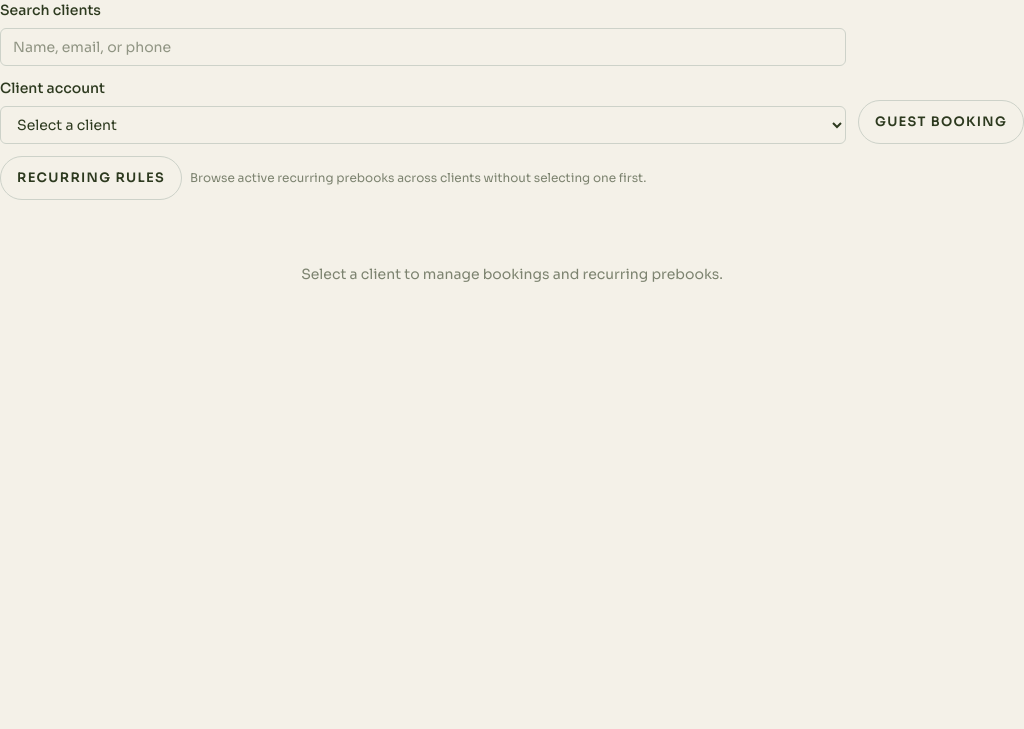
Test: ClientBookingManagerPanel › renders recurring rules for the selected client
Step 1. Select "Alex Client (alex@example.com)" in the dropdown labelled "Client account" → coordinates (423, 125), box 0,106 -> 846,144
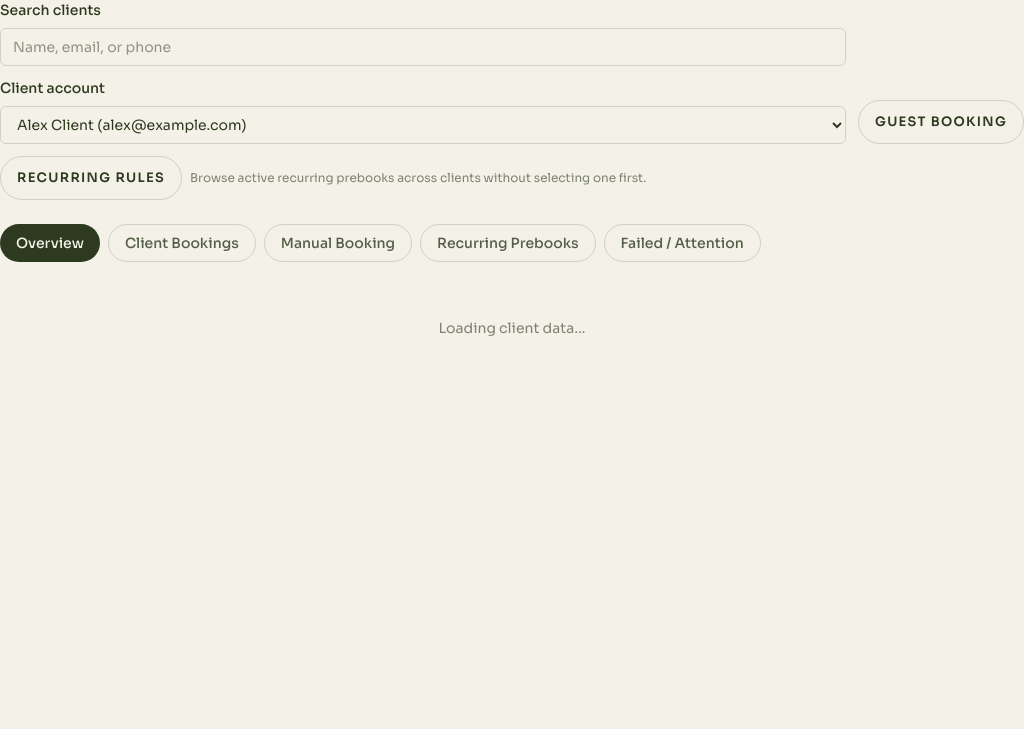
Step 2. Click the button "Recurring Prebooks" → coordinates (508, 243), box 420,224 -> 596,262
(page scrolled)
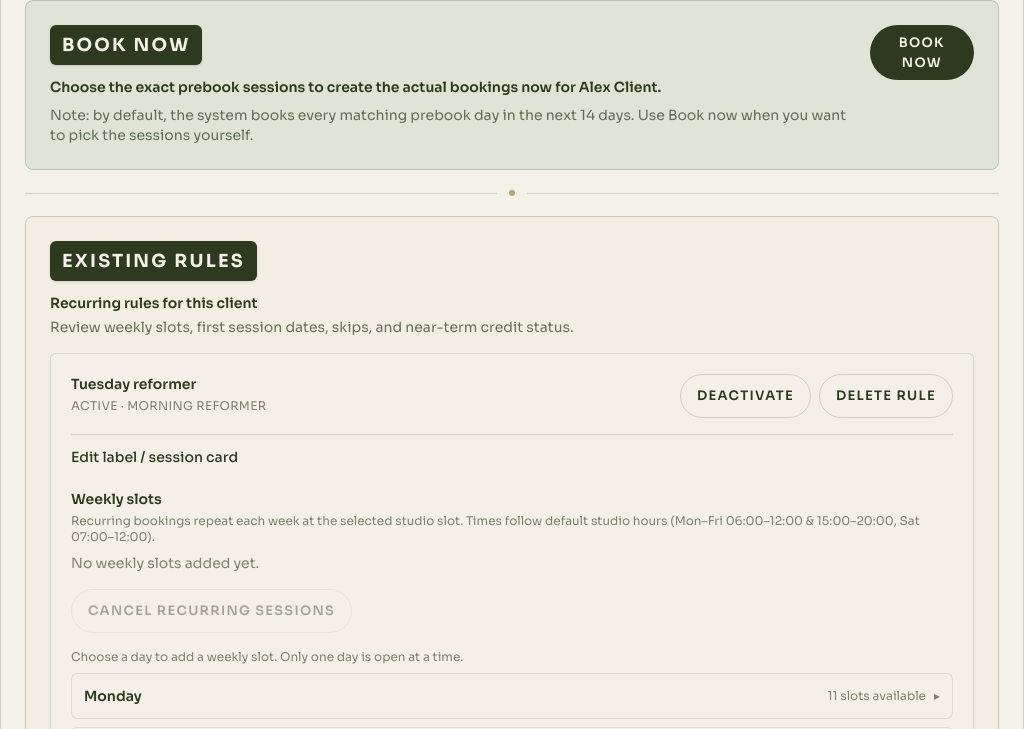
Check: the text "Tuesday reformer" is shown, box 71,375 -> 196,393
